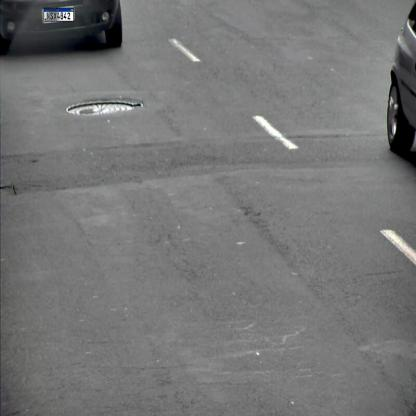PlacaM: (44, 8, 74, 22)
